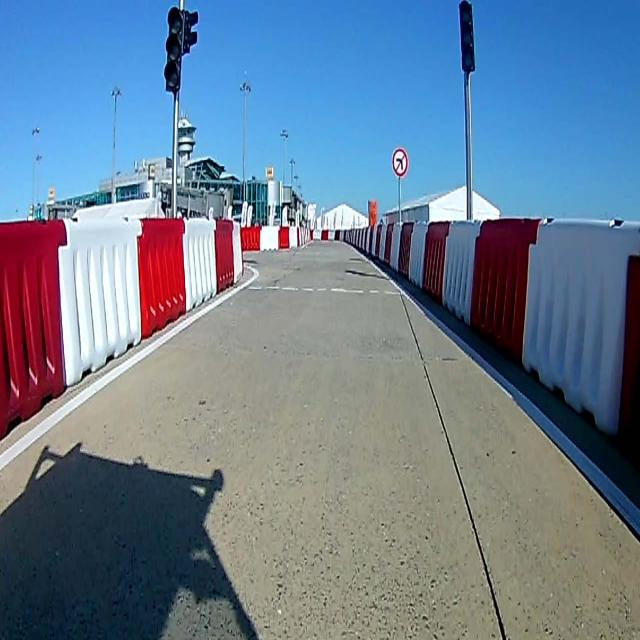soladonulmez: (391, 147, 407, 176)
